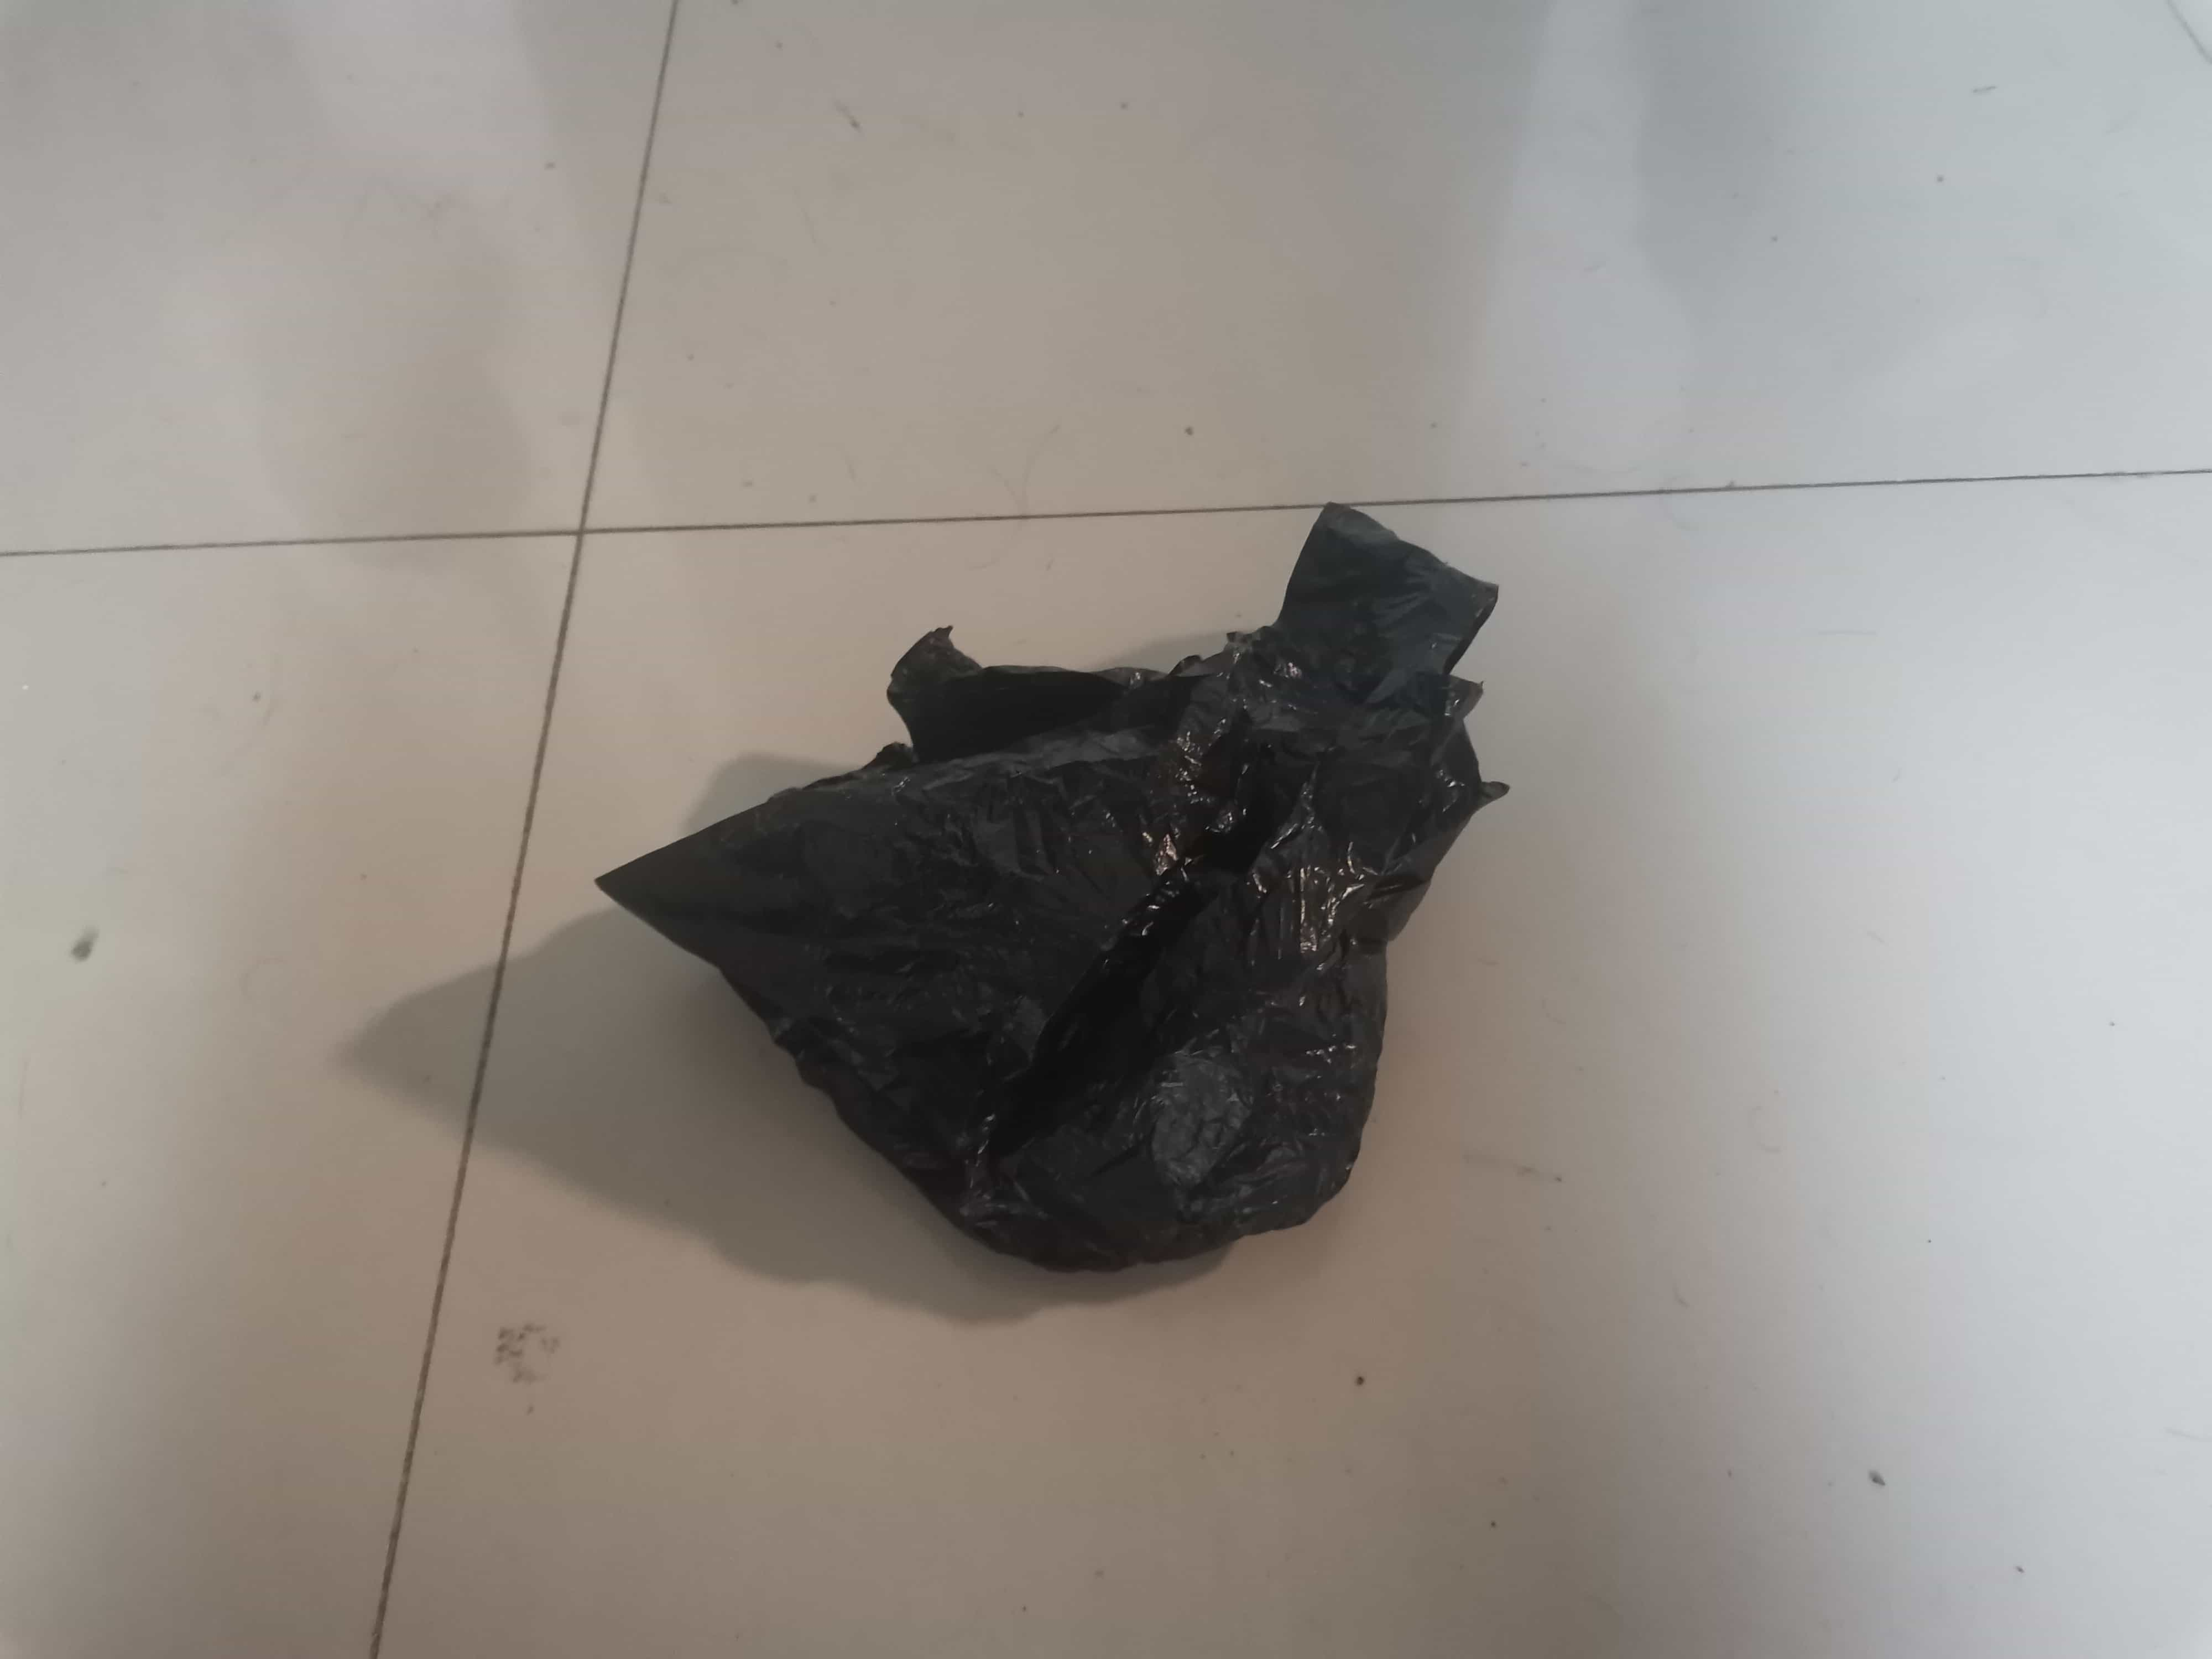plastic_bag: (571, 484, 1529, 1284)
